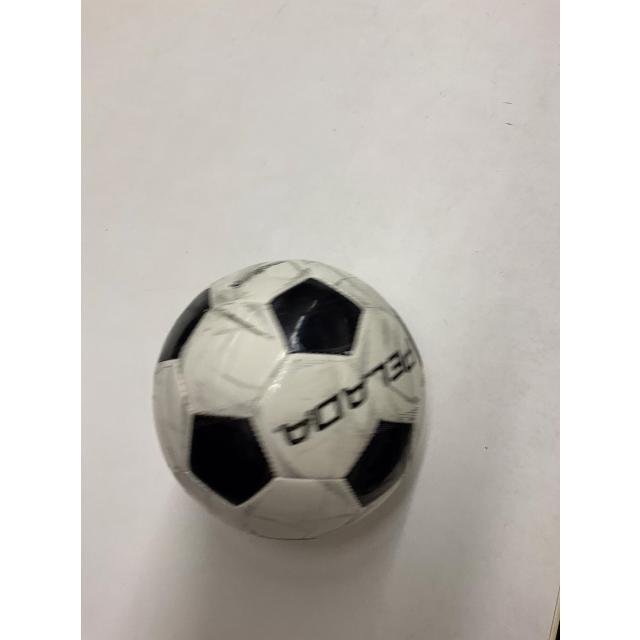ball: (151, 259, 429, 543)
